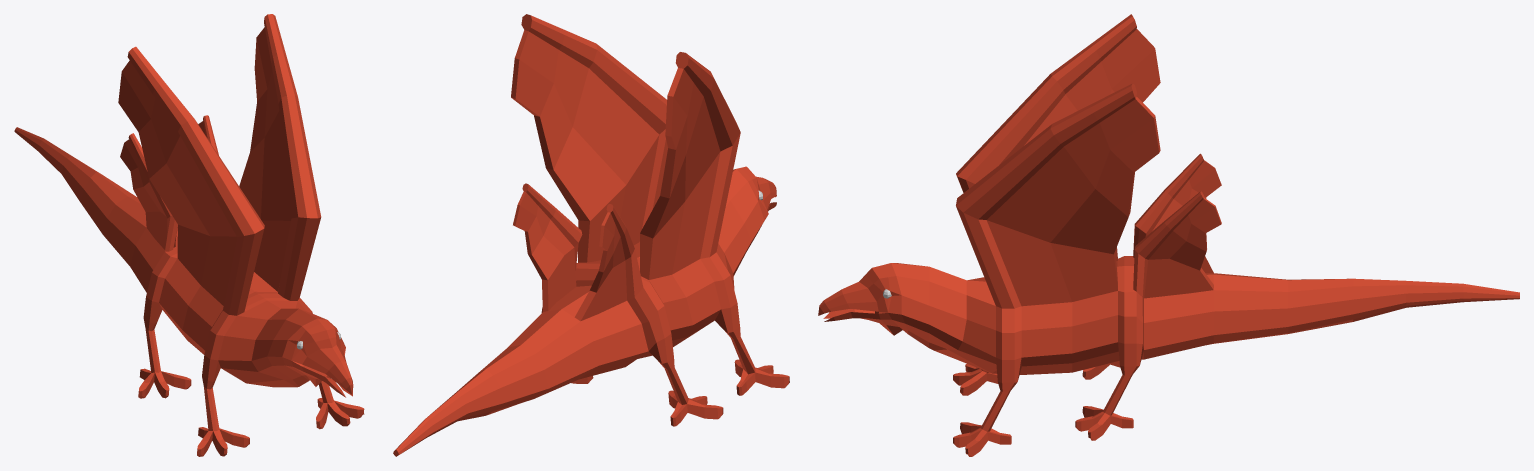
File: hybrid.fbx
3 renders of one model, left to right at view 1: azimuth 30°, elevation 25°; view 2: azimuth 150°, elevation 25°; view 3: azimuth 270°, elevation 25°, orthographic. The views are drawn at different scales.
Visible parts, largest first — view 1: Cylinder; view 2: Cylinder; view 3: Cylinder.
Boxes of the visible parts, box(x1,y1,x2,y2) form: Cylinder: box(14, 14, 364, 456); Cylinder: box(393, 14, 789, 456); Cylinder: box(818, 14, 1519, 456).
Size of the model in its own units: 302 by 604 by 1049.
